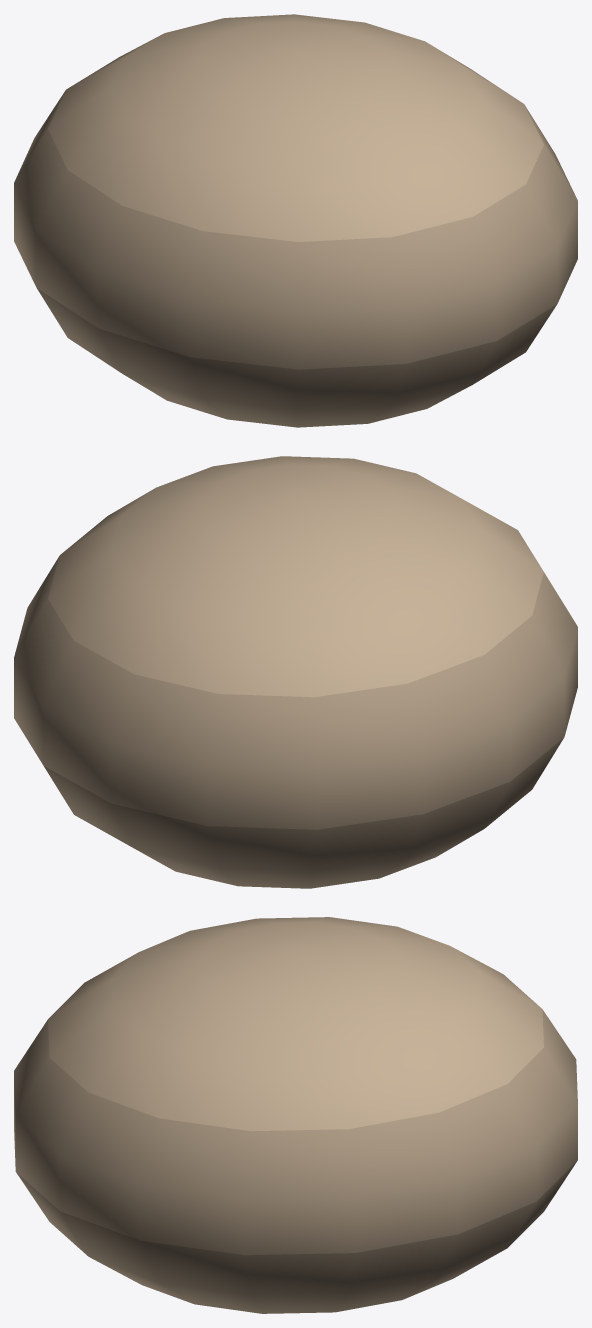
File: deco_pebble_2.glb
The picture shows the model from 3 angles, top to bottom: view 1: azimuth 30°, elevation 25°; view 2: azimuth 150°, elevation 25°; view 3: azimuth 270°, elevation 25°; orthographic projection. The views are drawn at different scales.
Visible parts, largest first — view 1: body; view 2: body; view 3: body.
Boxes of the visible parts, x1=… form: body: x1=14, y1=14, x2=577, y2=427; body: x1=14, y1=456, x2=577, y2=888; body: x1=14, y1=917, x2=577, y2=1313.
Size of the model in its own units: 0.6846 by 0.4712 by 0.7333.
